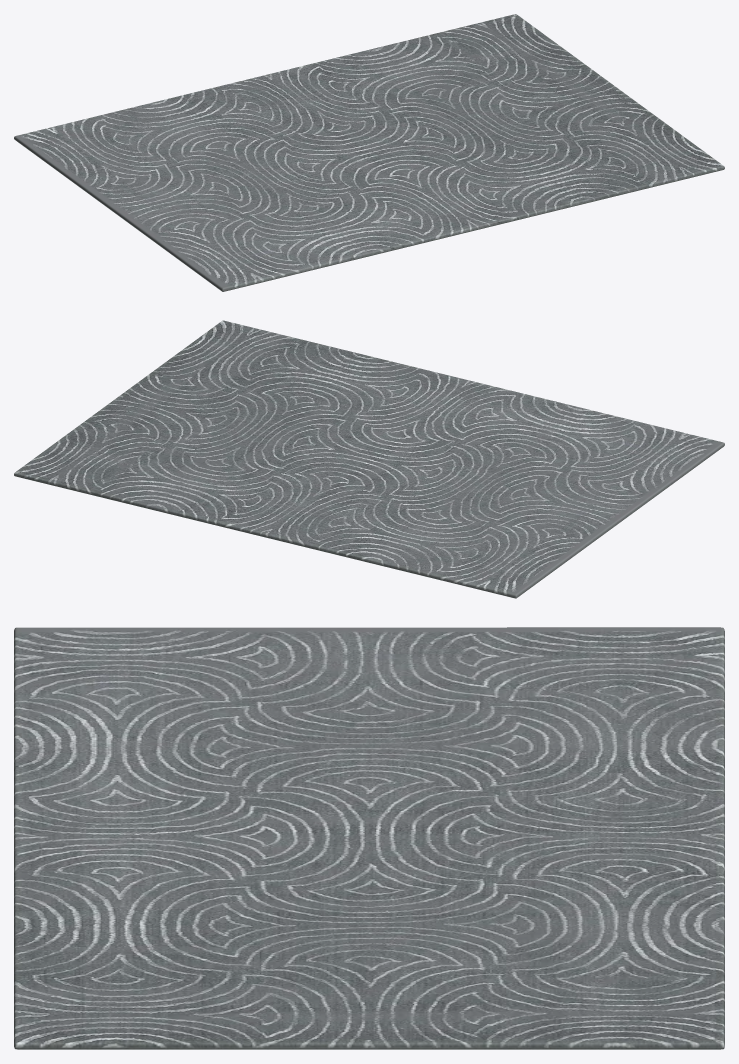
File: B07121ZWNC.glb
The picture shows the model from 3 angles, top to bottom: view 1: azimuth 30°, elevation 25°; view 2: azimuth 150°, elevation 25°; view 3: azimuth 270°, elevation 25°; orthographic projection. The views are drawn at different scales.
Visible parts, largest first — view 1: RootNode; view 2: RootNode; view 3: RootNode.
Boxes of the visible parts, left/top/right/bottom form: RootNode: left=14, top=14, right=724, bottom=291; RootNode: left=14, top=320, right=724, bottom=598; RootNode: left=14, top=627, right=724, bottom=1049.
Bounding box in the file's own units: 2.14 × 0.0149 × 1.54.
Materials: 1 (1 with a texture image).
